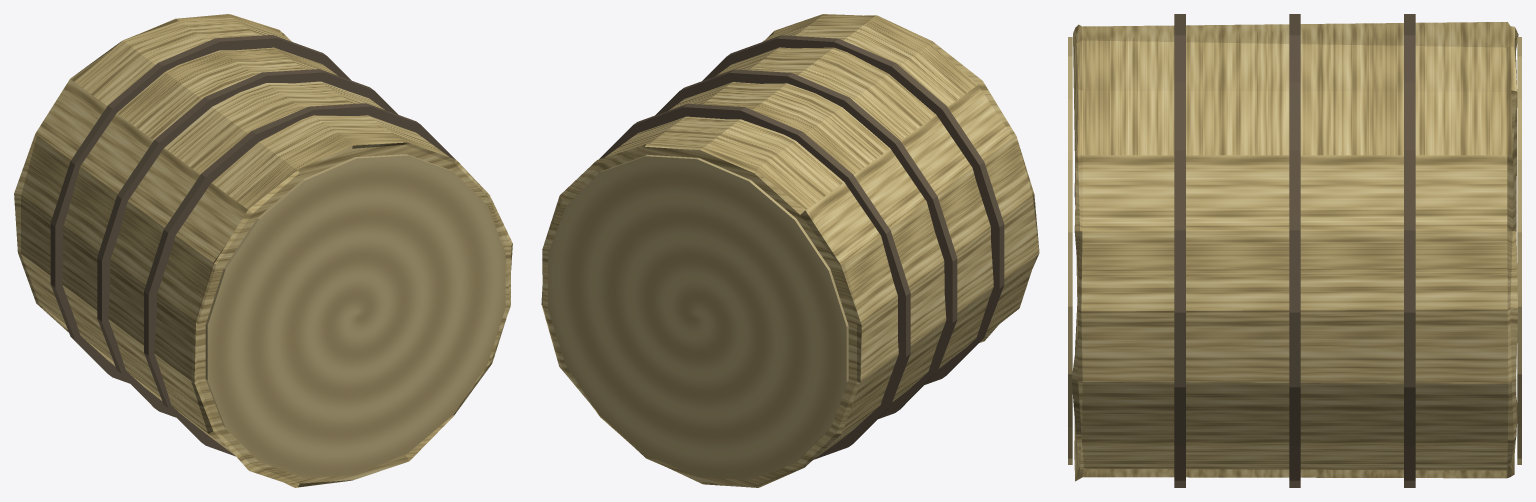
Rendered from round_bale.glb.
The picture shows the model from 3 angles, left to right: view 1: azimuth 30°, elevation 25°; view 2: azimuth 150°, elevation 25°; view 3: azimuth 270°, elevation 25°; orthographic projection. The views are drawn at different scales.
Visible parts, largest first — view 1: RoundBale; view 2: RoundBale; view 3: RoundBale.
Part boxes in pixels (box(x1,y1,x2,y2)): RoundBale: box(14, 14, 512, 487); RoundBale: box(541, 14, 1039, 487); RoundBale: box(1068, 14, 1521, 487).
Size of the model in its own units: 1.02 by 1.04 by 0.988.
3 materials, 2 textured.
